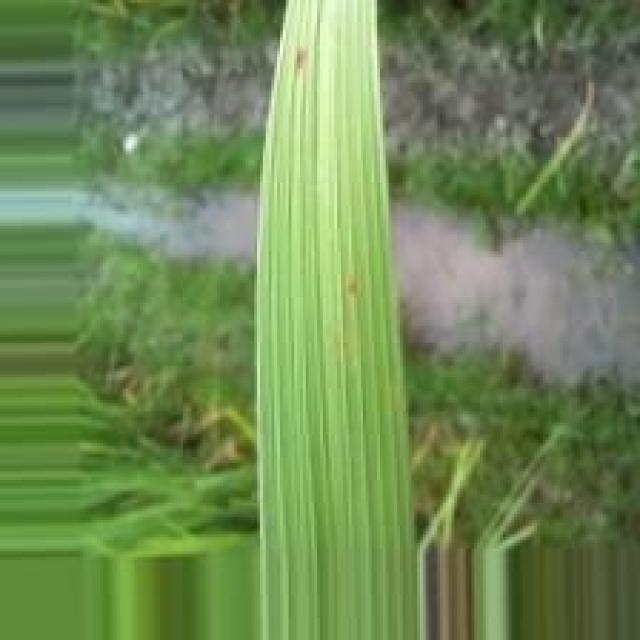Brown_Spot: (344, 274, 363, 298), (294, 46, 308, 74)
